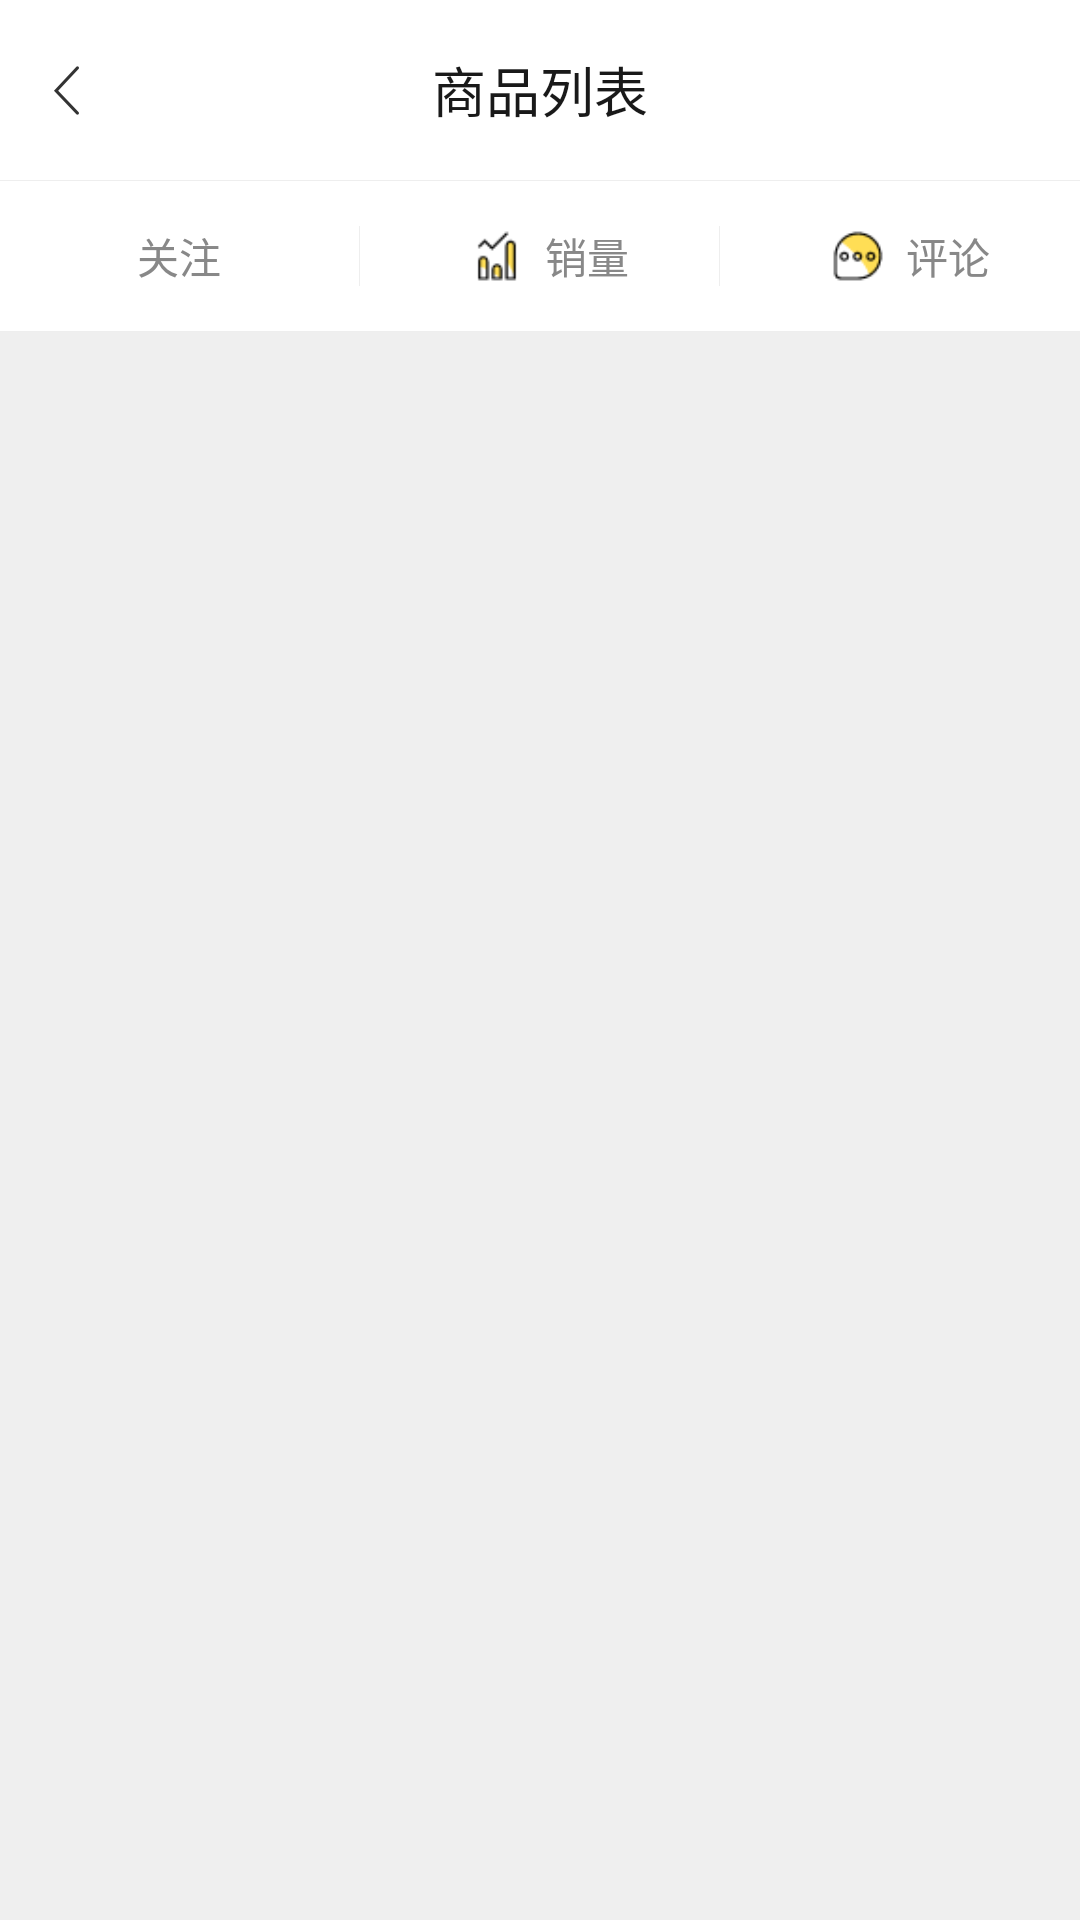

Icon click points for this 1080x1920 phone screenshot, format (x,y):
back: (66,90)
shop count: (497,256)
shop review: (858,256)
